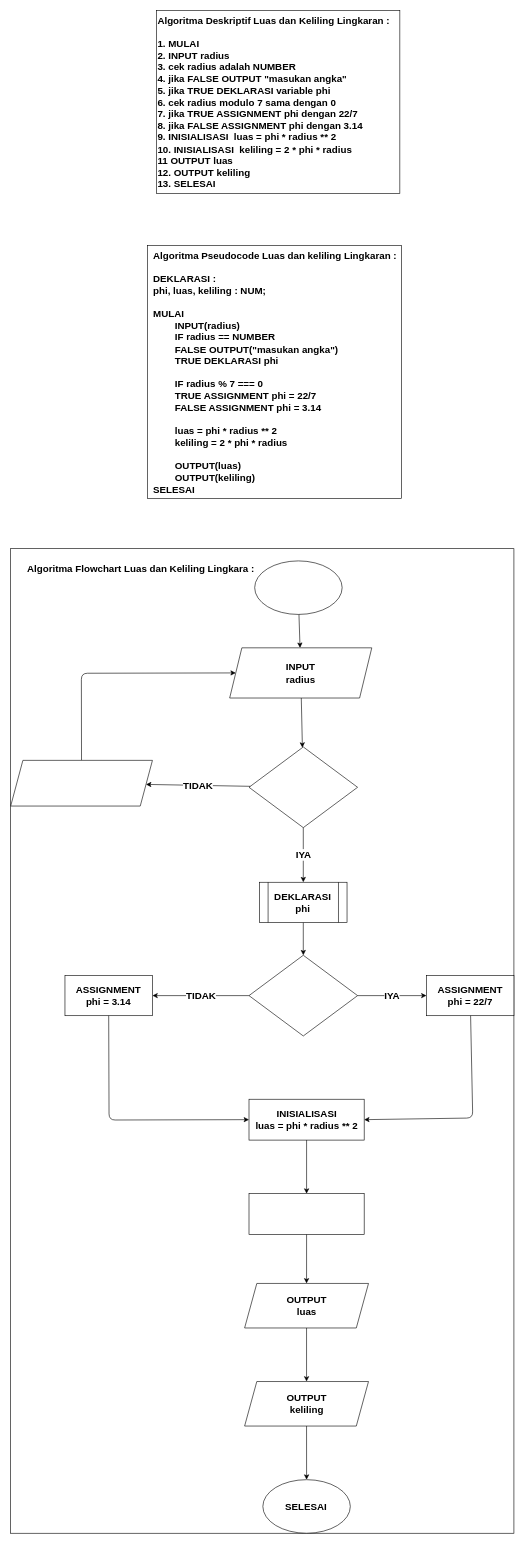
This 525x1544 diagram has some shape labels left out. The centre of each missing label's shape, as x and y in pixels:
INISIALISASI keliling = 2 * phi * radius: (x=306, y=1214)
MULAI: (x=298, y=587)
OUTPUT "masukan angka": (x=81, y=783)
radius % 7 === 0: (x=303, y=995)
radius == NUMBER: (x=303, y=787)
